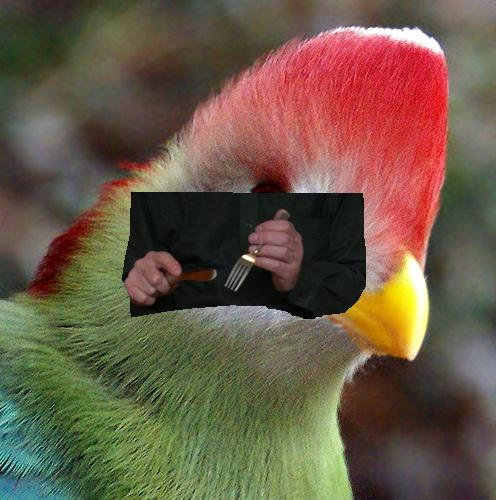tampered: (123, 193, 366, 319)
